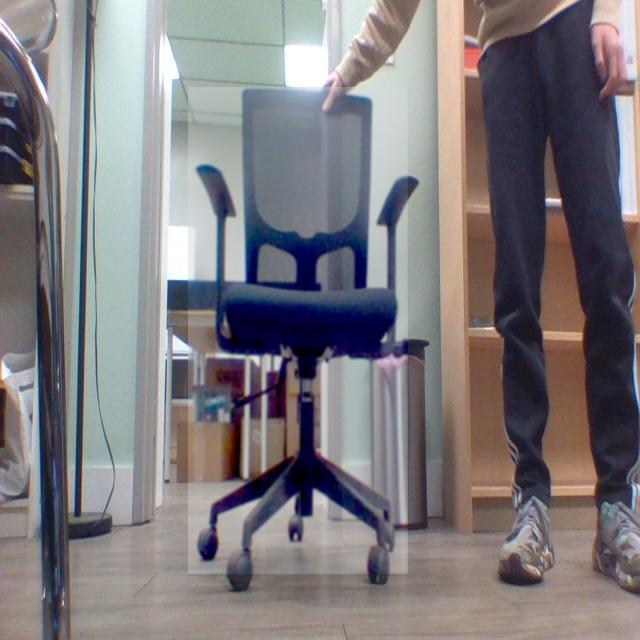chair: (169, 74, 431, 597)
